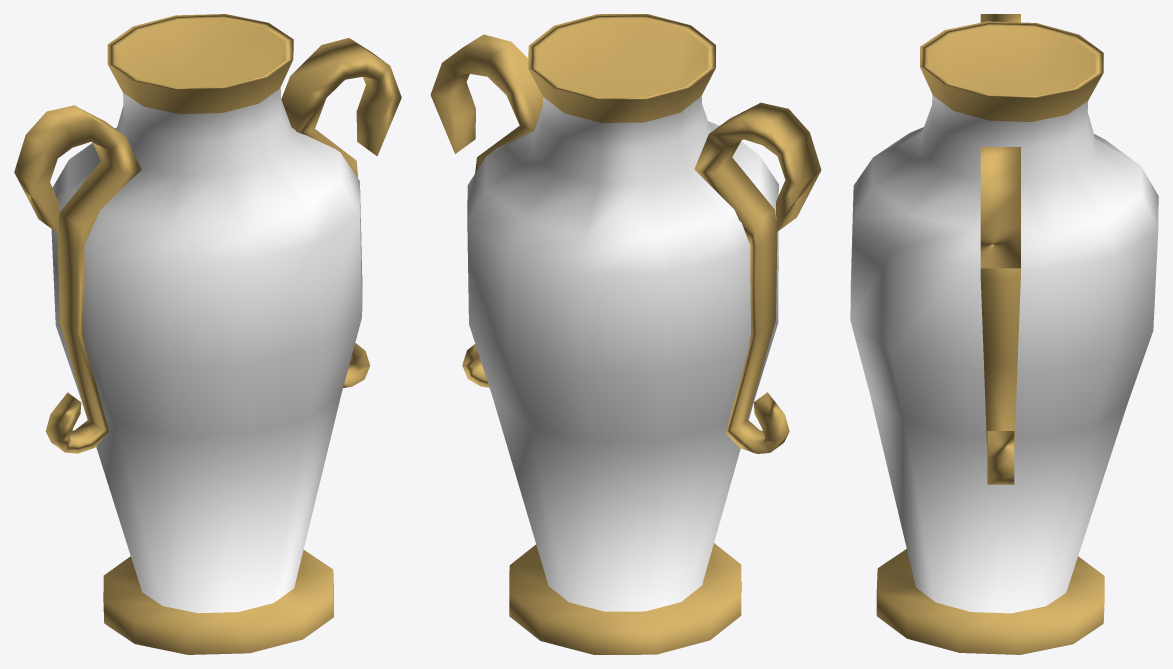
The model's file is MiscVase1UV.fbx.
The picture shows the model from 3 angles, left to right: view 1: azimuth 30°, elevation 25°; view 2: azimuth 150°, elevation 25°; view 3: azimuth 270°, elevation 25°; orthographic projection. The views are drawn at different scales.
Parts seen in each view (by area): view 1: polySurface48; view 2: polySurface48; view 3: polySurface48.
Boxes of the visible parts, left/top/right/bottom form: polySurface48: left=14, top=14, right=401, bottom=654; polySurface48: left=430, top=14, right=821, bottom=654; polySurface48: left=850, top=14, right=1158, bottom=654.
Bounding box in the file's own units: 99.57 × 144 × 73.16.
